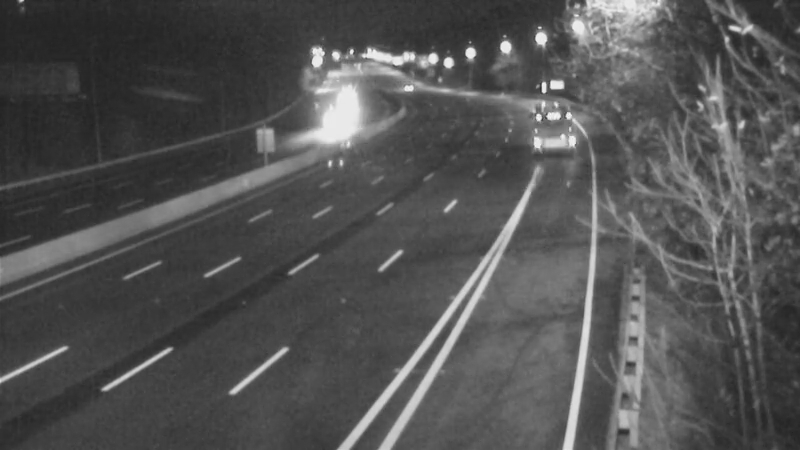vehicle: (380, 61, 430, 111), (528, 92, 578, 142), (308, 103, 358, 153)
